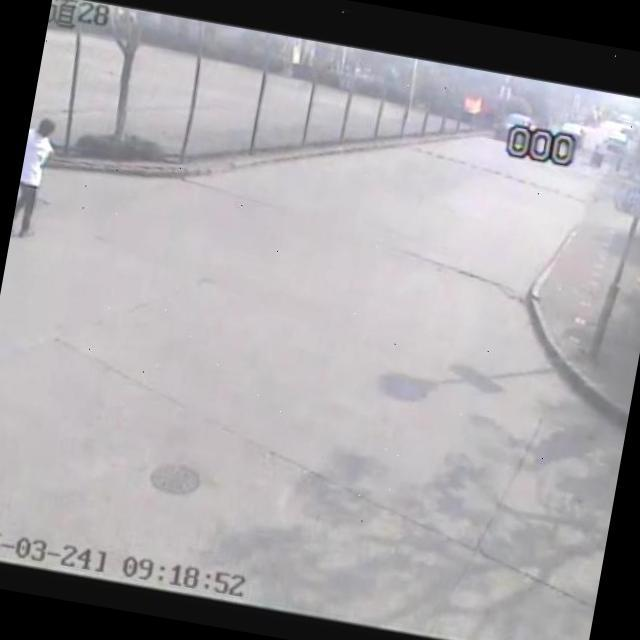person: (7, 98, 78, 263)
